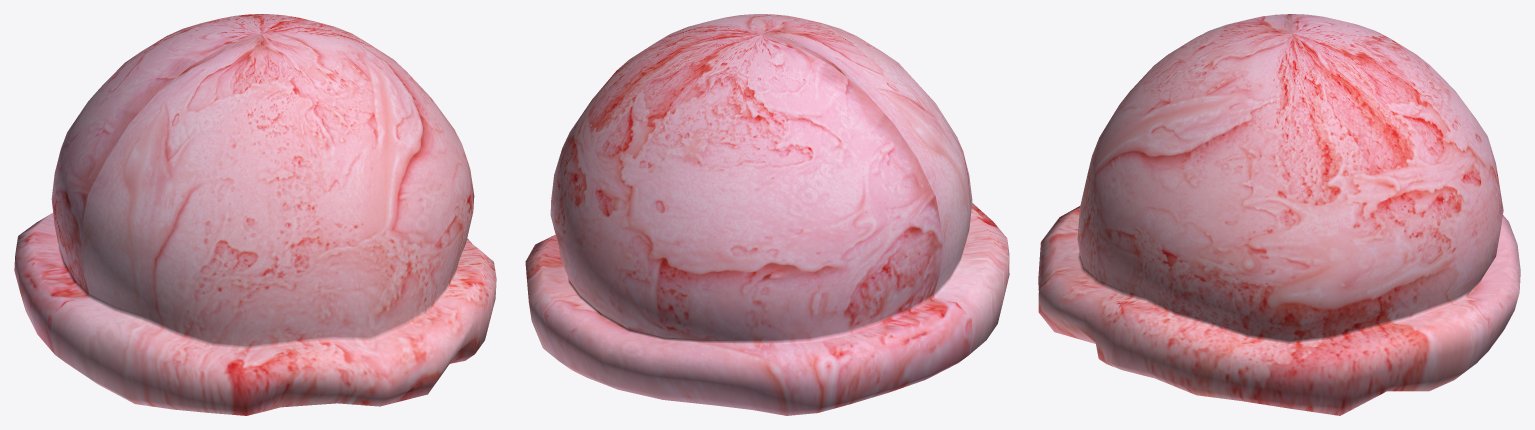
The model's file is scoop-strawberry.gltf.
3 views of the same model, side by side, from view 1: azimuth 30°, elevation 25°; view 2: azimuth 150°, elevation 25°; view 3: azimuth 270°, elevation 25° (orthographic). The views are drawn at different scales.
Visible parts, largest first — view 1: Scoop; view 2: Scoop; view 3: Scoop.
Part boxes in pixels (x1,y1,x2,y2): Scoop: (14, 14, 496, 415); Scoop: (525, 14, 1009, 415); Scoop: (1038, 14, 1520, 415).
Size of the model in its own units: 1.33 by 0.9831 by 1.38.
Materials: 1 (1 with a texture image).
